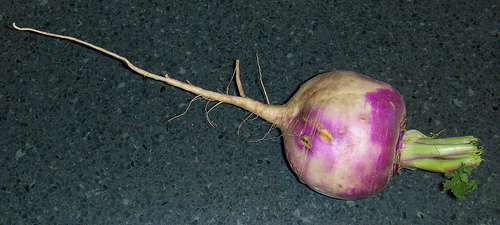turnip: (10, 19, 484, 201)
